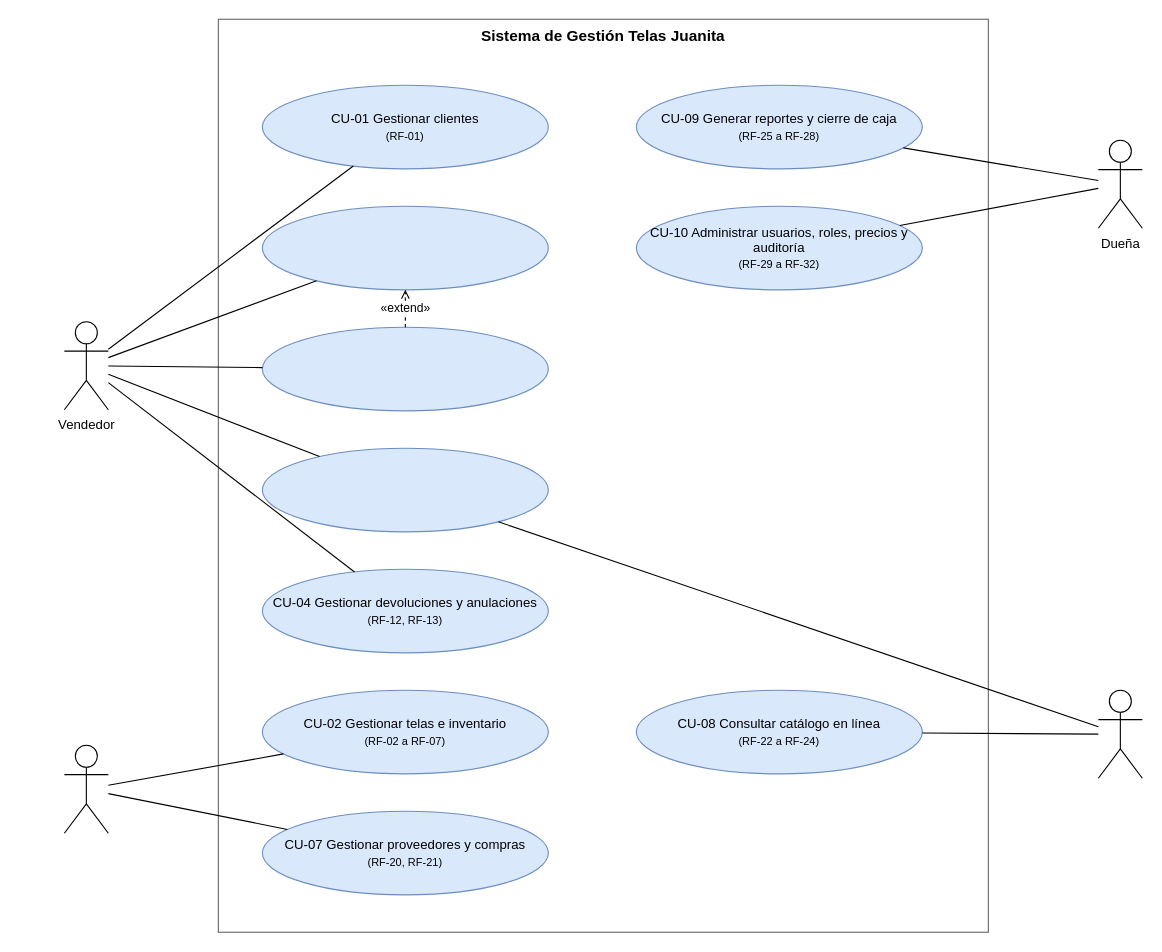
This 1162x952 diagram has some shape labels left out. Here are the shapes that lost their labels. From the top down, the centre of each, then its label:
At [404,247]: "CU-03 Registrar venta (RF-08 a RF-11)".
At [404,368]: "CU-05 Gestionar crédito y cobranza (RF-14 a RF-16)".
At [404,489]: "CU-06 Gestionar pedidos y reservas (RF-17 a RF-19)".
At [1119,733]: "Cliente".
At [85,788]: "Encargado de almacén".
